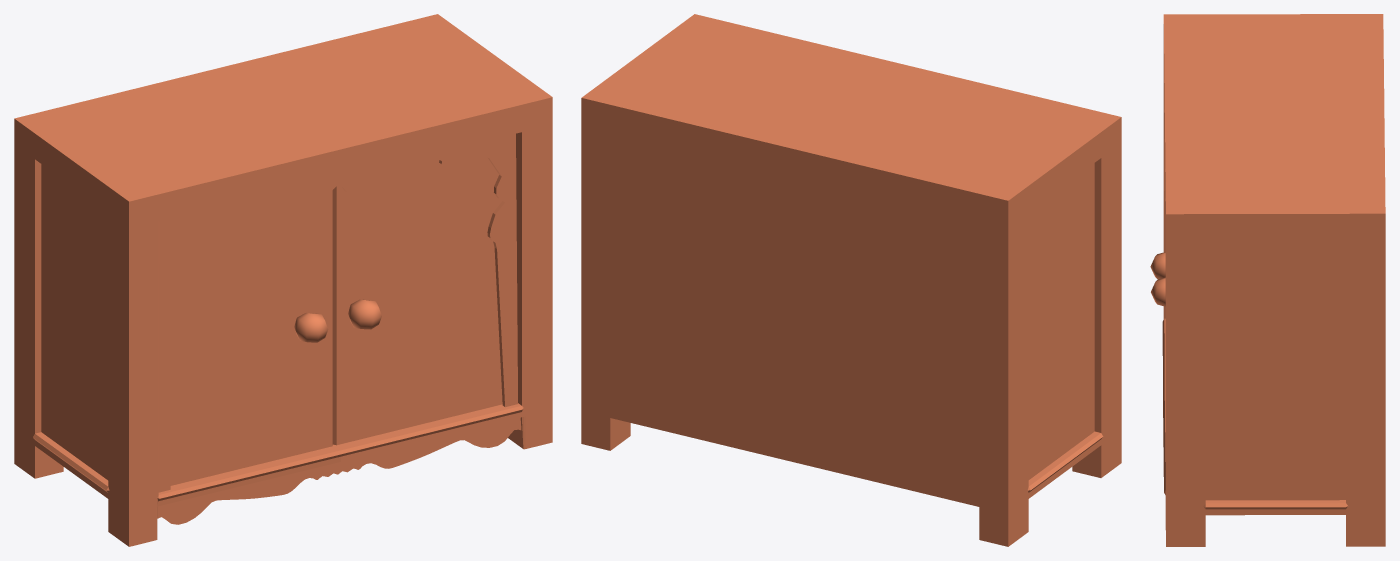
The model's file is cupboad1.fbx.
3 renders of one model, left to right at view 1: azimuth 30°, elevation 25°; view 2: azimuth 150°, elevation 25°; view 3: azimuth 270°, elevation 25°, orthographic. The views are drawn at different scales.
Visible parts, largest first — view 1: Plane.008; view 2: Plane.008; view 3: Plane.008.
Part boxes in pixels (x1,y1,x2,y2): Plane.008: (14, 14, 552, 546); Plane.008: (581, 14, 1121, 546); Plane.008: (1150, 14, 1385, 546).
Size of the model in its own units: 385 by 296 by 190.
